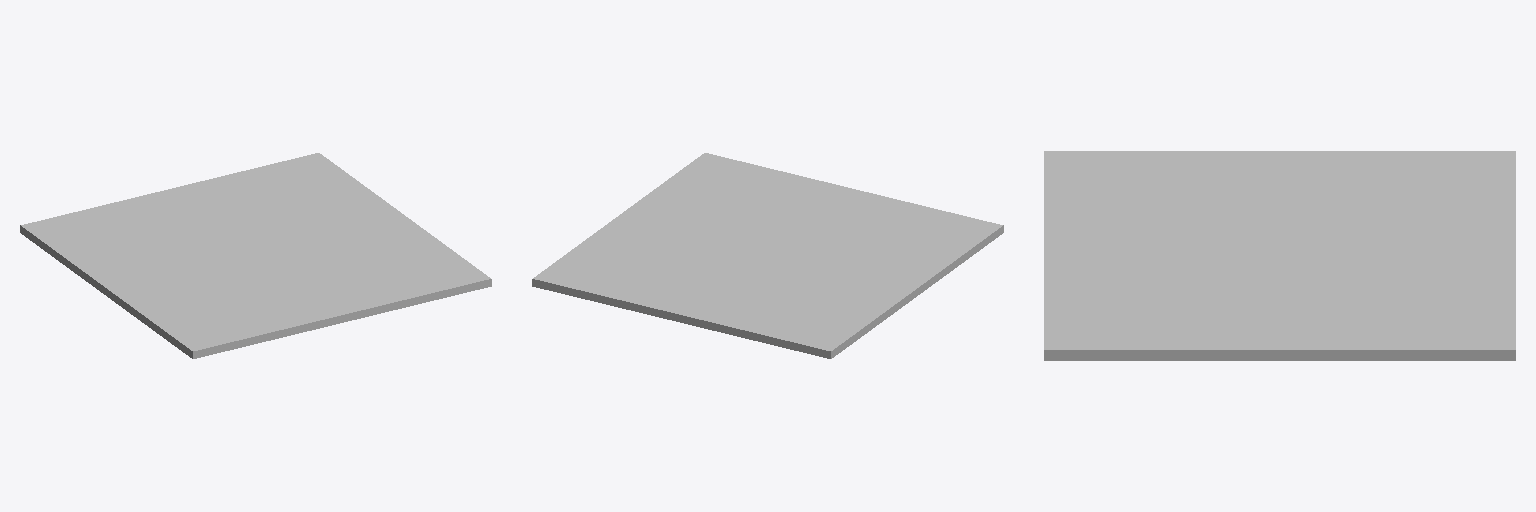
URDF robot description (plane):
<?xml version="1.0" ?>
<!-- =================================================================================== -->
<!-- |    This document was autogenerated by xacro from plane_with_restitution.urdf.xacro | -->
<!-- |    EDITING THIS FILE BY HAND IS NOT RECOMMENDED                                 | -->
<!-- =================================================================================== -->
<robot name="plane">
  <link name="link0">
    <contact>
      <lateral_friction value="1000.0"/>
      <restitution value="0.0"/>
    </contact>
    <inertial>
      <origin rpy="0 0 0" xyz="0 0 0"/>
      <mass value=".0"/>
      <inertia ixx="0" ixy="0" ixz="0" iyy="0" iyz="0" izz="0"/>
    </inertial>
    <visual>
      <origin rpy="0 0 0" xyz="0.0 0.0 -0.5"/>
      <geometry>
        <mesh filename="meshes/plane.obj" scale="1 1 1"/>
      </geometry>
      <material name="white">
        <color rgba="1 1 1 1"/>
      </material>
    </visual>
    <collision>
      <origin rpy="0 0 0" xyz="0.0 0.0 -5.5"/>
      <geometry>
        <box size="30 30 10"/>
      </geometry>
    </collision>
  </link>
    <joint name="joint0" type="prismatic">
    <parent link="link0"/>
    <child link="link1"/>
    <limit effort="1000" lower="-10" upper="10" velocity="100000"/>
    <axis xyz="1 0 0"/>
    <origin rpy="0 0 0" xyz="0 0 0"/>
  </joint>
  <link name="link1">
  </link>
    <joint name="joint1" type="prismatic">
    <parent link="link1"/>
    <child link="link2"/>
    <limit effort="1000" lower="-10" upper="10" velocity="100000"/>
    <axis xyz="0 1 0"/>
    <origin rpy="0 0 0" xyz="0 0 0"/>
  </joint>
  <link name="link2">
  </link>
    <joint name="joint2" type="prismatic">
    <parent link="link2"/>
    <child link="link3"/>
    <limit effort="1000" lower="-10" upper="10" velocity="100000"/>
    <axis xyz="0 0 1"/>
    <origin rpy="0 0 0" xyz="0 0 0"/>
  </joint>
  <link name="link3">
    <contact>
        <lateral_friction value="1000.0"/>
        <restitution value="0.0"/>
    </contact>
    <inertial>
      <origin rpy="0 0 0" xyz="0 0 0"/>
       <mass value="1.0"/>
       <inertia ixx="0" ixy="0" ixz="0" iyy="0" iyz="0" izz="0"/>
    </inertial>
    <collision>
      <origin rpy="0 0 0" xyz="0 0 0"/>
      <geometry>
        <box size="0.2 0.2 0.005"/>
      </geometry>
      <material name="white">
        <color rgba="1 1 1 1"/>
      </material>
    </collision>
    <visual>
      <origin rpy="0 0 0" xyz="0 0 0"/>
      <geometry>
        <box size="0.2 0.2 0.005"/>
      </geometry>
      <material name="grey">
        <color rgba="0.8 0.8 0.8 1.0"/>
      </material>
    </visual>
  </link>




    <joint name="joint3" type="prismatic">
    <parent link="link0"/>
    <child link="link4"/>
    <limit effort="1000" lower="-10" upper="10" velocity="100000"/>
    <axis xyz="1 0 0"/>
    <origin rpy="0 0 0" xyz="0 0 0"/>
  </joint>
  <link name="link4">
  </link>
    <joint name="joint4" type="prismatic">
    <parent link="link4"/>
    <child link="link5"/>
    <limit effort="1000" lower="-10" upper="10" velocity="100000"/>
    <axis xyz="0 1 0"/>
    <origin rpy="0 0 0" xyz="0 0 0"/>
  </joint>
  <link name="link5">
  </link>
    <joint name="joint5" type="prismatic">
    <parent link="link5"/>
    <child link="link6"/>
    <limit effort="1000" lower="-10" upper="10" velocity="100000"/>
    <axis xyz="0 0 1"/>
    <origin rpy="0 0 0" xyz="0 0 0"/>
  </joint>
  <link name="link6">
    <contact>
        <lateral_friction value="1000.0"/>
        <restitution value="0.0"/>
    </contact>
    <inertial>
      <origin rpy="0 0 0" xyz="0 0 0"/>
       <mass value="1.0"/>
       <inertia ixx="0" ixy="0" ixz="0" iyy="0" iyz="0" izz="0"/>
    </inertial>
    <collision>
      <origin rpy="0 0 0" xyz="0 0 0"/>
      <geometry>
        <box size="0.2 0.2 0.005"/>
      </geometry>
      <material name="white">
        <color rgba="1 1 1 1"/>
      </material>
    </collision>
    <visual>
      <origin rpy="0 0 0" xyz="0 0 0"/>
      <geometry>
        <box size="0.2 0.2 0.005"/>
      </geometry>
      <material name="grey">
        <color rgba="0.8 0.8 0.8 1.0"/>
      </material>
    </visual>
  </link>





    <joint name="joint6" type="prismatic">
    <parent link="link0"/>
    <child link="link7"/>
    <limit effort="1000" lower="-10" upper="10" velocity="100000"/>
    <axis xyz="1 0 0"/>
    <origin rpy="0 0 0" xyz="0 0 0"/>
  </joint>
  <link name="link7">
  </link>
    <joint name="joint7" type="prismatic">
    <parent link="link7"/>
    <child link="link8"/>
    <limit effort="1000" lower="-10" upper="10" velocity="100000"/>
    <axis xyz="0 1 0"/>
    <origin rpy="0 0 0" xyz="0 0 0"/>
  </joint>
  <link name="link8">
  </link>
    <joint name="joint8" type="prismatic">
    <parent link="link8"/>
    <child link="link9"/>
    <limit effort="1000" lower="-10" upper="10" velocity="100000"/>
    <axis xyz="0 0 1"/>
    <origin rpy="0 0 0" xyz="0 0 0"/>
  </joint>
  <link name="link9">
    <contact>
        <lateral_friction value="1000.0"/>
        <restitution value="0.0"/>
    </contact>
    <inertial>
      <origin rpy="0 0 0" xyz="0 0 0"/>
       <mass value="1.0"/>
       <inertia ixx="0" ixy="0" ixz="0" iyy="0" iyz="0" izz="0"/>
    </inertial>
    <collision>
      <origin rpy="0 0 0" xyz="0 0 0"/>
      <geometry>
        <box size="0.2 0.2 0.005"/>
      </geometry>
      <material name="white">
        <color rgba="1 1 1 1"/>
      </material>
    </collision>
    <visual>
      <origin rpy="0 0 0" xyz="0 0 0"/>
      <geometry>
        <box size="0.2 0.2 0.005"/>
      </geometry>
      <material name="grey">
        <color rgba="0.8 0.8 0.8 1.0"/>
      </material>
    </visual>
  </link>





    <joint name="joint9" type="prismatic">
    <parent link="link0"/>
    <child link="link10"/>
    <limit effort="1000" lower="-10" upper="10" velocity="100000"/>
    <axis xyz="1 0 0"/>
    <origin rpy="0 0 0" xyz="0 0 0"/>
  </joint>
  <link name="link10">
  </link>
    <joint name="joint10" type="prismatic">
    <parent link="link10"/>
    <child link="link11"/>
    <limit effort="1000" lower="-10" upper="10" velocity="100000"/>
    <axis xyz="0 1 0"/>
    <origin rpy="0 0 0" xyz="0 0 0"/>
  </joint>
  <link name="link11">
  </link>
    <joint name="joint11" type="prismatic">
    <parent link="link11"/>
    <child link="link12"/>
    <limit effort="1000" lower="-10" upper="10" velocity="100000"/>
    <axis xyz="0 0 1"/>
    <origin rpy="0 0 0" xyz="0 0 0"/>
  </joint>
  <link name="link12">
    <contact>
        <lateral_friction value="1000.0"/>
        <restitution value="0.0"/>
    </contact>
    <inertial>
      <origin rpy="0 0 0" xyz="0 0 0"/>
       <mass value="1.0"/>
       <inertia ixx="0" ixy="0" ixz="0" iyy="0" iyz="0" izz="0"/>
    </inertial>
    <collision>
      <origin rpy="0 0 0" xyz="0 0 0"/>
      <geometry>
        <box size="0.2 0.2 0.005"/>
      </geometry>
      <material name="white">
        <color rgba="1 1 1 1"/>
      </material>
    </collision>
    <visual>
      <origin rpy="0 0 0" xyz="0 0 0"/>
      <geometry>
        <box size="0.2 0.2 0.005"/>
      </geometry>
      <material name="grey">
        <color rgba="0.8 0.8 0.8 1.0"/>
      </material>
    </visual>
  </link>
</robot>

--- What the picture shows (computed from the rendered views, not written in the file) ---
The picture shows the robot from 3 angles, left to right: view 1: azimuth 30°, elevation 25°; view 2: azimuth 150°, elevation 25°; view 3: azimuth 270°, elevation 25°; orthographic projection.
Robot: plane — 13 links, 12 joints (12 prismatic); root link link0; default pose: all joints at 0.
Visible links, largest first — view 1: link3; view 2: link3; view 3: link3.
Boxes of the visible links, x1,y1,x2,y2 form: link3: (20,153,491,358); link3: (532,153,1003,358); link3: (1044,151,1515,360).
Size in the robot's own frame: 0.2 by 0.2 by 0.005 metres.
0 mesh visuals loaded from 1 distinct referenced files (none loaded); not drawn: 1 (reference not matched to a file when rendering).
